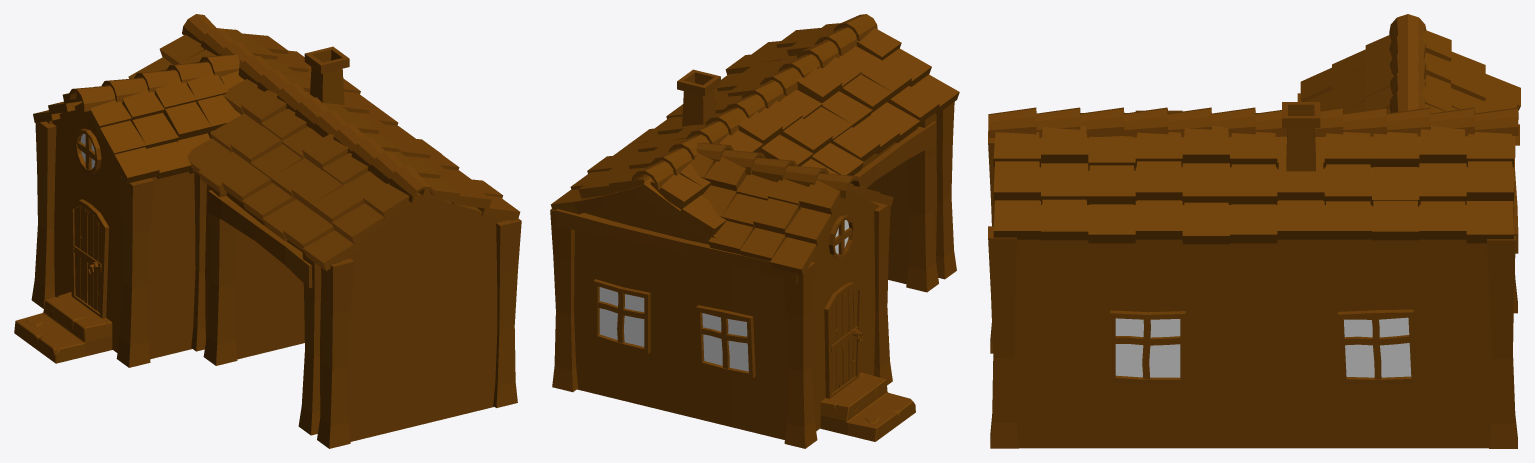
The model's file is дом2 .fbx.
3 renders of one model, left to right at view 1: azimuth 30°, elevation 25°; view 2: azimuth 150°, elevation 25°; view 3: azimuth 270°, elevation 25°, orthographic. The views are drawn at different scales.
Parts seen in each view (by area): view 1: Куб.014; view 2: Куб.014; view 3: Куб.014.
Part boxes in pixels (x1,y1,x2,y2): Куб.014: [14, 14, 521, 448]; Куб.014: [550, 14, 959, 448]; Куб.014: [988, 14, 1520, 448].
Size of the model in its own units: 198 by 161 by 253.
